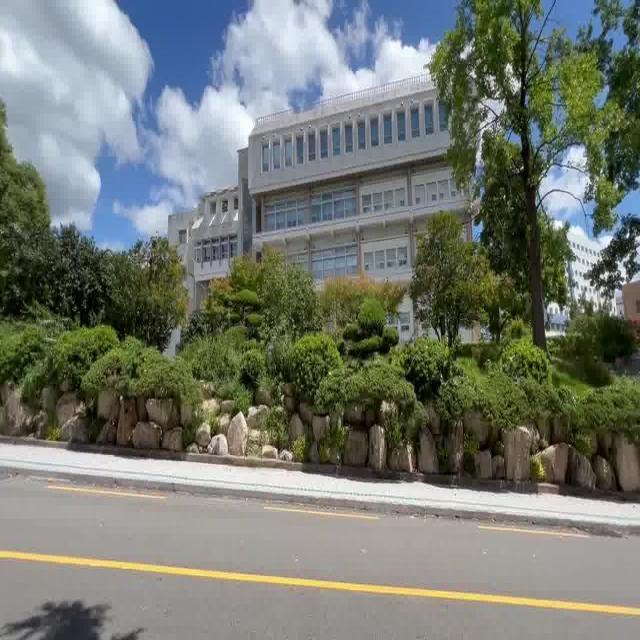building: (236, 77, 446, 242)
